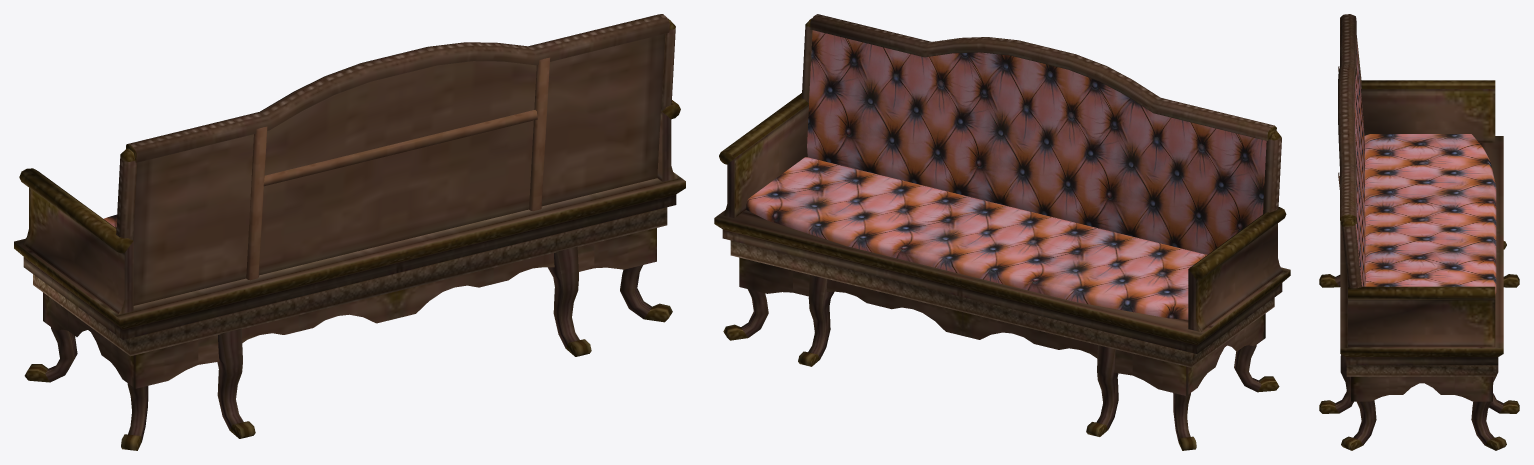
The model's file is o_mdl_env_propFurnitureSofaA-transformed.glb.
3 views of the same model, side by side, from view 1: azimuth 30°, elevation 25°; view 2: azimuth 150°, elevation 25°; view 3: azimuth 270°, elevation 25° (orthographic). The views are drawn at different scales.
Parts seen in each view (by area): view 1: default; view 2: default; view 3: default.
Boxes of the visible parts, bbox=[...] form: default: bbox=[14, 14, 685, 450]; default: bbox=[714, 14, 1290, 450]; default: bbox=[1319, 14, 1519, 450].
Size of the model in its own units: 2.15 by 1.2 by 0.8565.
2 materials, 2 textured.
